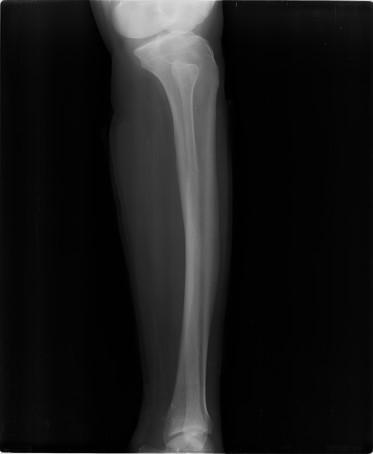fractured: (184, 152, 200, 181)
